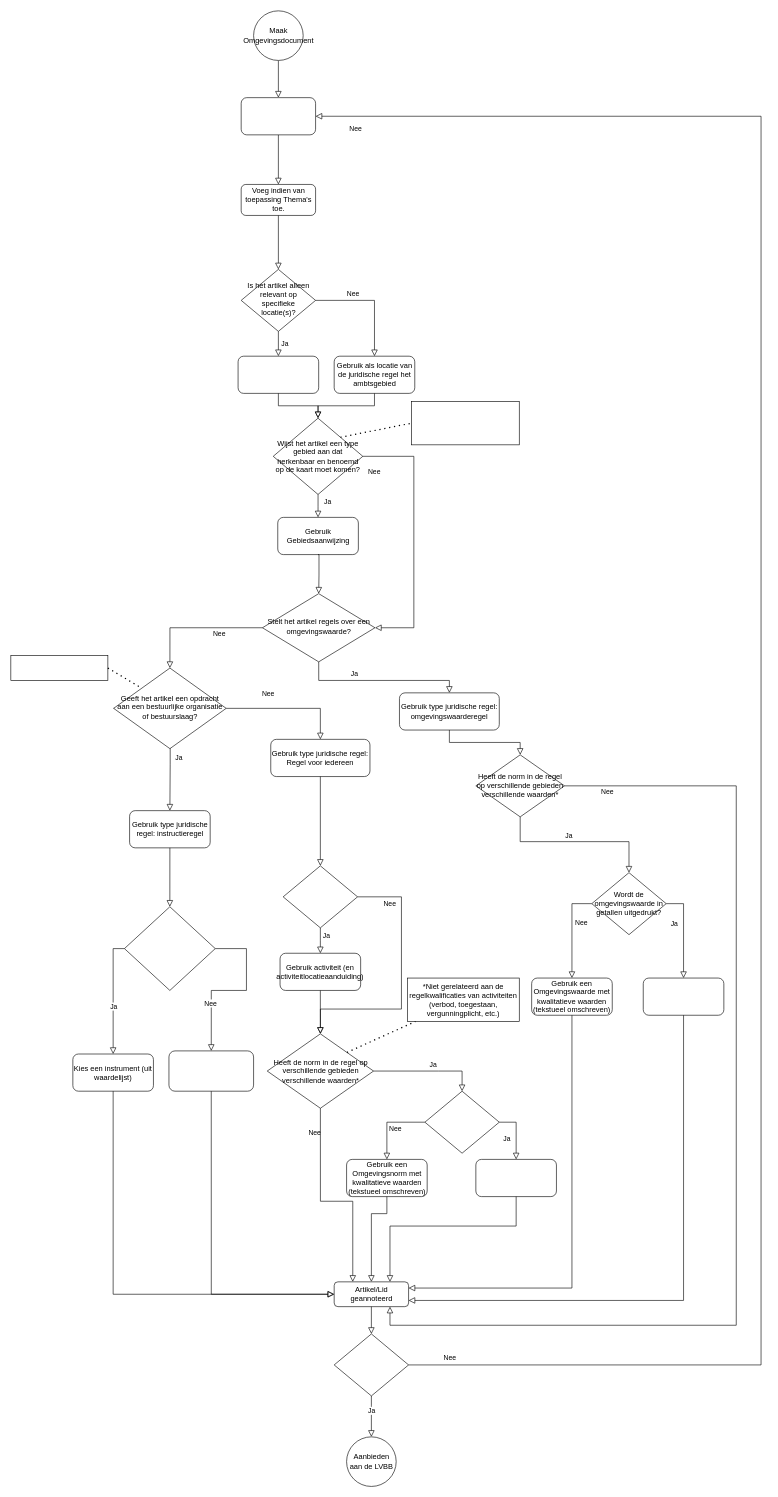
This 778x1497 diagram has some shape labels left out. The shapes that lost their labels are listed below. From the top down, each one's box as (x1, y1, x2, y2) in pixels, then its label:
(241, 97, 316, 135): Annoteer onderdeel van document (Artikel of Lid)
(237, 356, 319, 393): Gebruik als locatie van de juridische regel de specifieke locatie(s)
(411, 401, 519, 445): Te denken valt aan typen zoals: natuur, defensie, geluid, functies, etc.
(10, 655, 108, 680): *zie waardelijst adressaat
(283, 865, 358, 928): Gaat de regel over het verrichten van een activiteit
(124, 906, 215, 990): Is er een instrument waarin de instructieregel moet worden uitgewerkt?
(643, 977, 724, 1015): Gebruik een Omgevingswaarde met kwantitatieve waarden
(168, 1050, 254, 1091): Kies een bestuurslaag of bestuurlijke organisatie (uit waardelijst)
(424, 1091, 499, 1153): Wordt de waarde in getallen uitgedrukt?
(475, 1159, 556, 1197): Gebruik een Omgevingsnorm met kwantitatieve waarden
(334, 1333, 409, 1396): Is nu alles geannoteerd wat je had willen annoteren?
